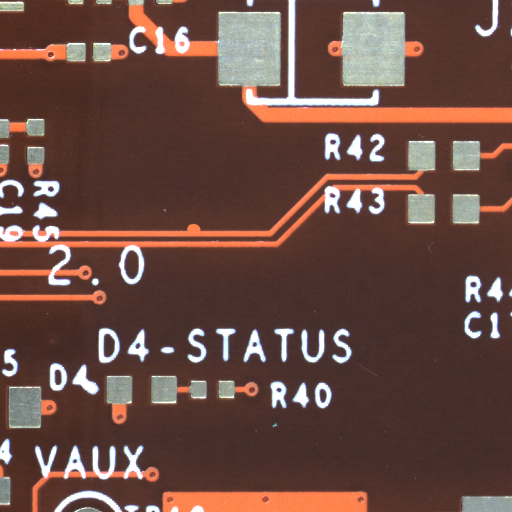Spur: (192, 227, 206, 235)
